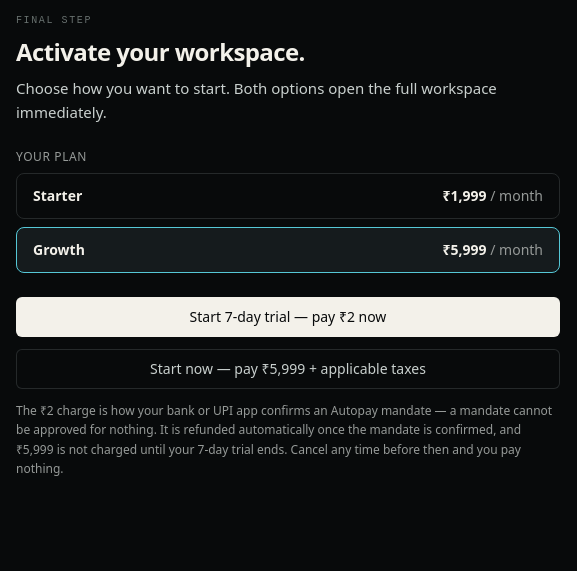
Scenario: activation page › opens Razorpay in its own tab rather than navigating away
Click the button "Start 7-day trial — pay ₹2 now" at (288, 317), box [16,297,560,337]
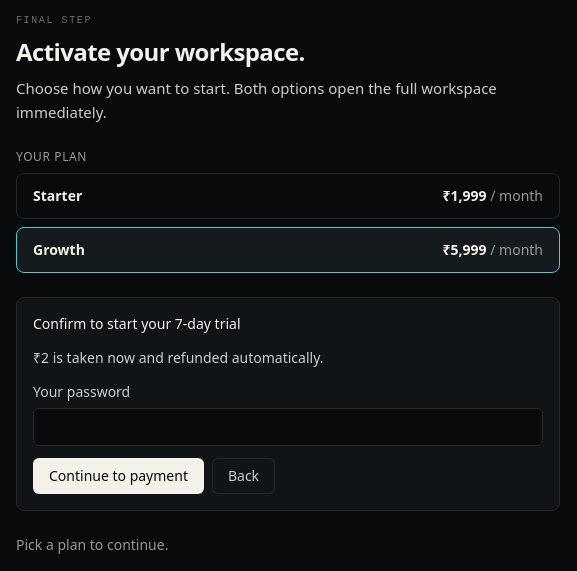
Type "hunter2hunter2" into the password field labelled "Your password" at (288, 427), box [33,408,543,446]
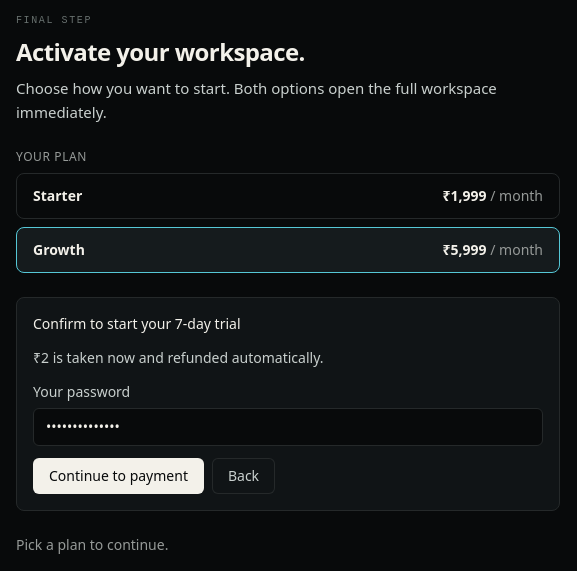
Click the button "Continue to payment" at (118, 476), box [33,458,204,494]
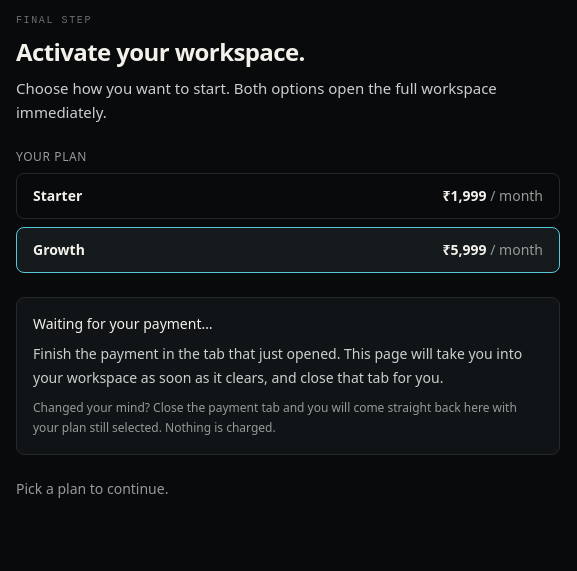
Expected: the text "Waiting for your payment…" is shown, [33,314,212,333]
